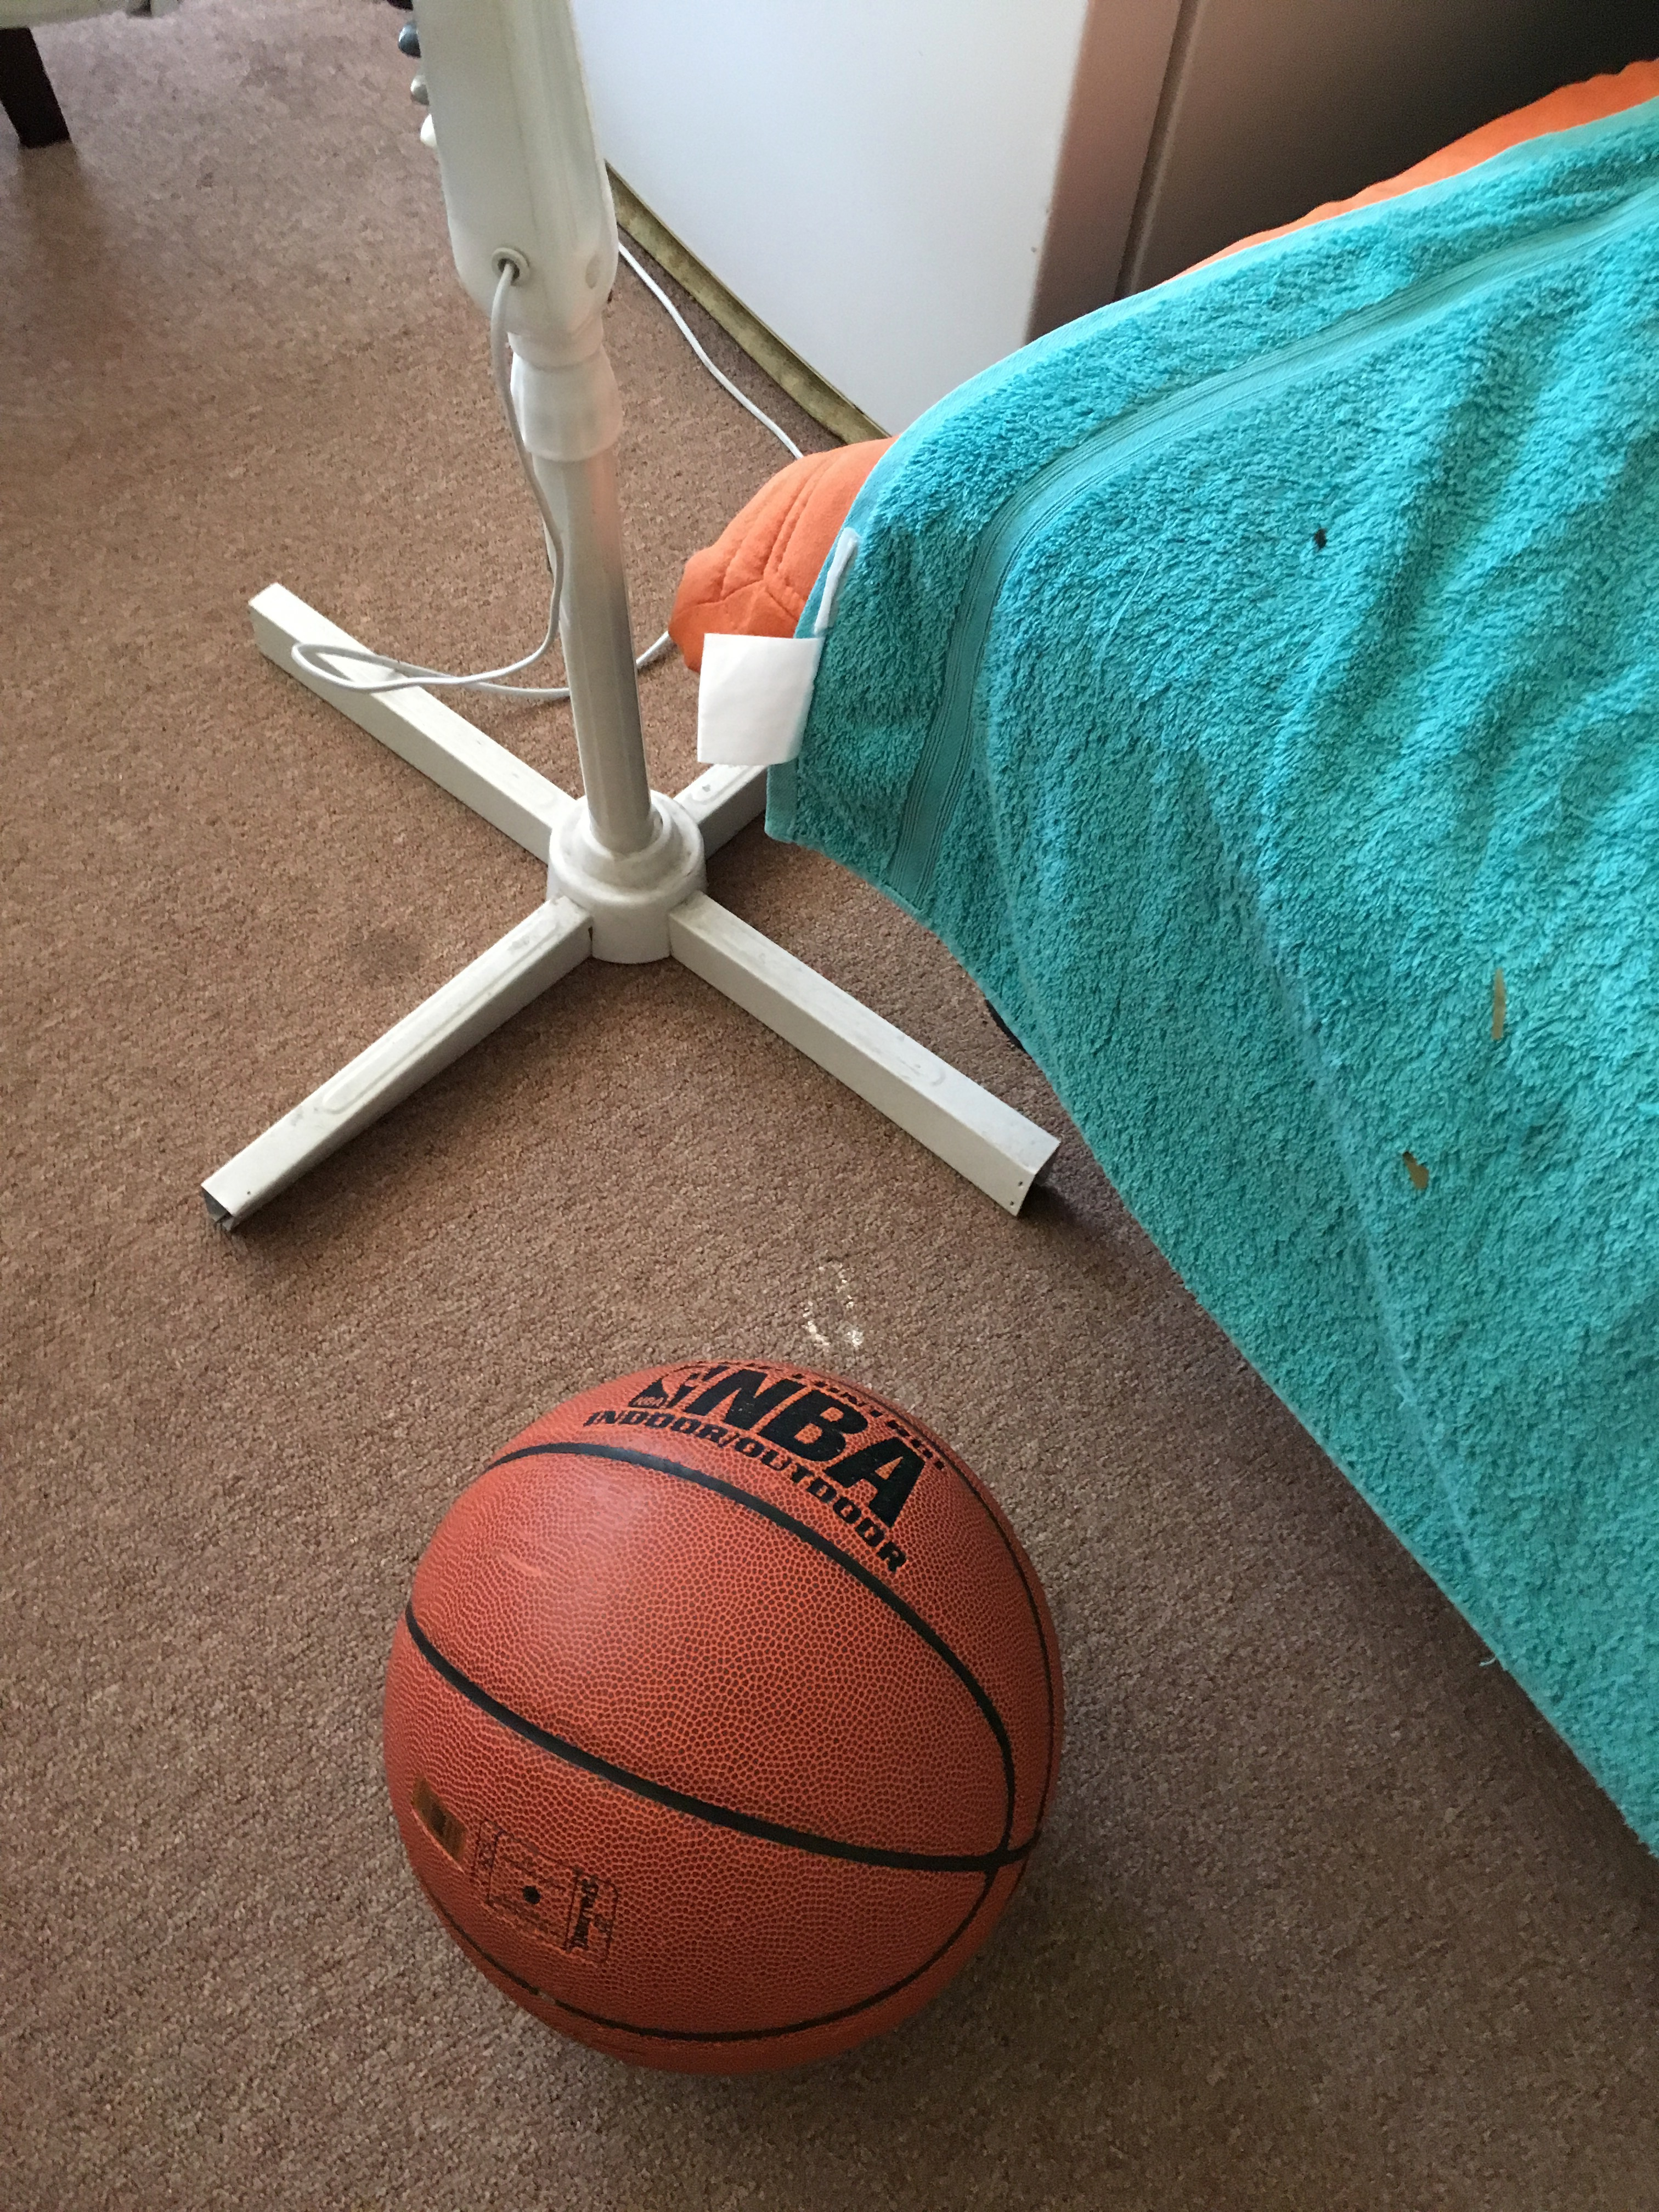Basketball: (368, 1357, 1086, 2083)
